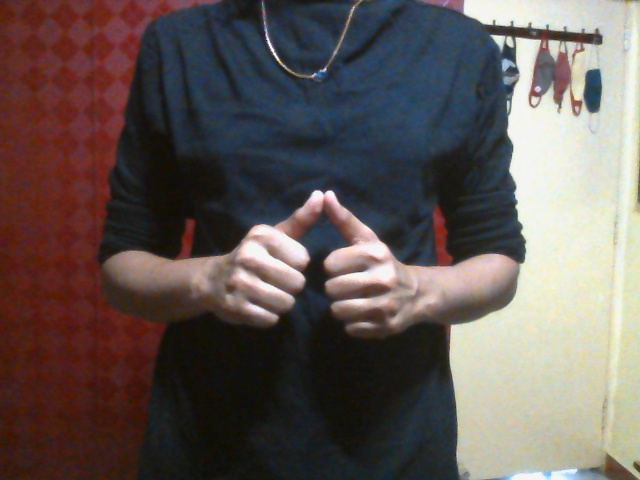A: (210, 186, 424, 343)
